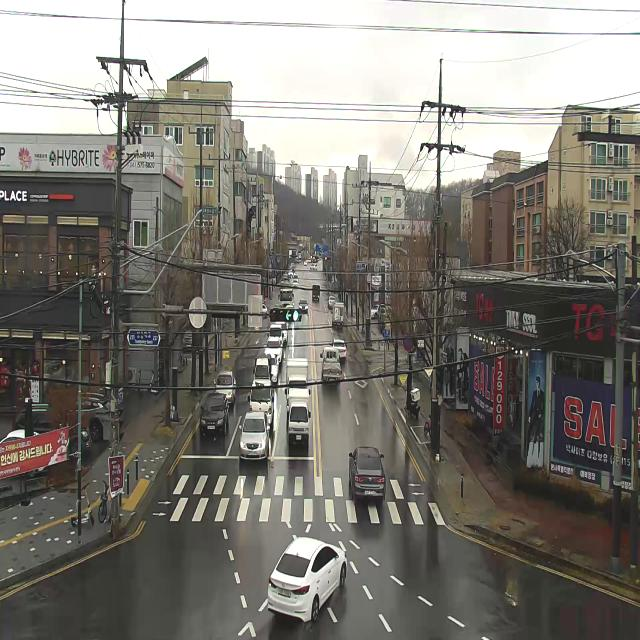Car: (267, 537, 348, 624), (12, 404, 92, 451), (0, 429, 45, 479), (348, 447, 386, 499), (76, 392, 111, 441), (239, 411, 270, 459), (200, 392, 230, 438), (248, 380, 274, 427), (214, 371, 236, 403), (264, 338, 283, 365), (253, 354, 272, 379), (329, 337, 347, 358), (270, 353, 279, 383), (275, 322, 288, 342), (371, 304, 386, 320), (299, 299, 308, 315), (183, 332, 192, 348), (312, 285, 320, 301), (328, 296, 337, 308), (262, 304, 268, 317), (293, 274, 299, 283), (310, 264, 318, 270), (292, 280, 298, 287), (282, 272, 288, 279), (288, 270, 293, 275), (291, 267, 296, 272), (304, 261, 308, 266)
Truck: (284, 358, 310, 417), (289, 388, 311, 444), (320, 347, 342, 382), (267, 324, 284, 344), (278, 288, 294, 308), (332, 302, 344, 328)
